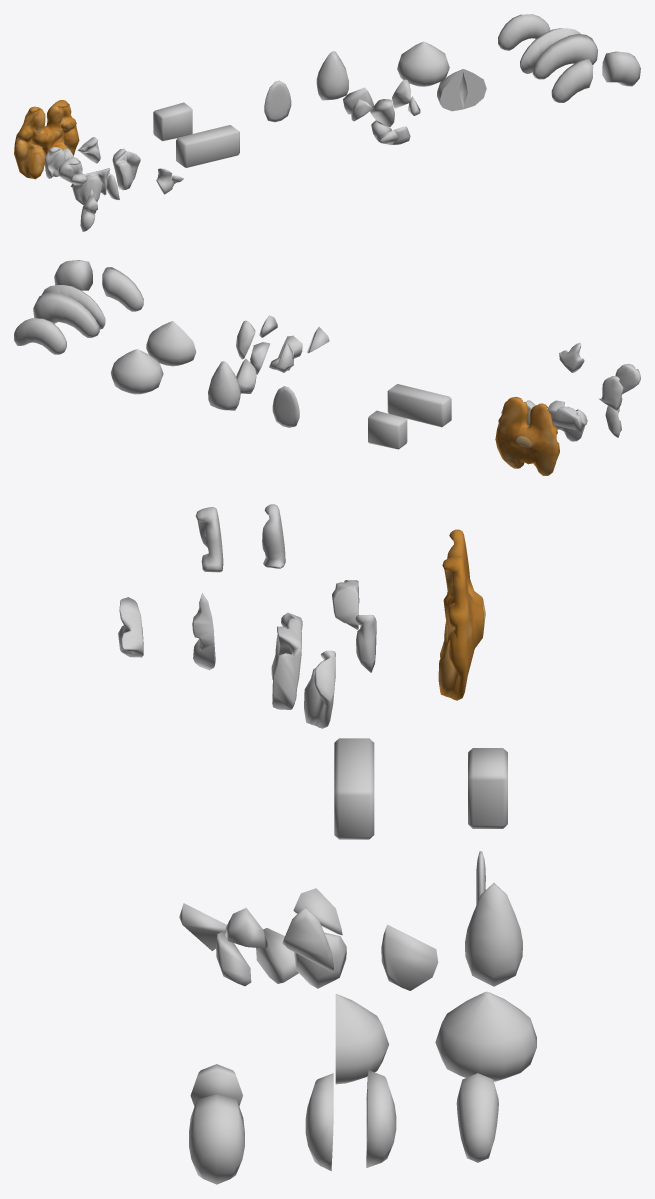
File: Restaurant_Ice cream_Six kinds of nuts.FBX
3 views of the same model, one above another, from view 1: azimuth 30°, elevation 25°; view 2: azimuth 150°, elevation 25°; view 3: azimuth 270°, elevation 25° (orthographic). The views are drawn at different scales.
Parts seen in each view (by area): view 1: GuoRen12, Restaurant_Ice cream_Nuts (1), GuoRen01, GuoRen08, GuoRen05, GuoRen09, Restaurant_Ice cream_Nuts (5), GuoRen04, Restaurant_Ice cream_Nuts (2), Restaurant_Ice cream_Nuts (6), Restaurant_Ice cream_Nuts (4), Restaurant_Ice cream_Nuts (3) (+1 smaller); view 2: Restaurant_Ice cream_Nuts (1), GuoRen12, GuoRen01, GuoRen09, GuoRen08, GuoRen05, Restaurant_Ice cream_Nuts (5), GuoRen04, Restaurant_Ice cream_Nuts (6), Restaurant_Ice cream_Nuts (2), Restaurant_Ice cream_Nuts (4), Restaurant_Ice cream_Nuts (3) (+1 smaller); view 3: GuoRen12, GuoRen09, Restaurant_Ice cream_Nuts (5), GuoRen08, Restaurant_Ice cream_Nuts (1), GuoRen01, Restaurant_Ice cream_Nuts (4), GuoRen05, GuoRen04, Restaurant_Ice cream_Nuts (2), Restaurant_Ice cream_Nuts (6), GuoRen10.
Boxes of the visible parts, x1,y1,x2,y2 form: GuoRen12: [44, 137, 183, 231]; Restaurant_Ice cream_Nuts (1): [14, 100, 79, 179]; GuoRen01: [520, 28, 597, 79]; GuoRen08: [551, 51, 640, 102]; GuoRen05: [176, 125, 239, 167]; GuoRen09: [351, 79, 420, 145]; Restaurant_Ice cream_Nuts (5): [397, 41, 449, 86]; GuoRen04: [437, 69, 486, 111]; Restaurant_Ice cream_Nuts (2): [153, 102, 192, 141]; Restaurant_Ice cream_Nuts (6): [498, 14, 550, 50]; Restaurant_Ice cream_Nuts (4): [316, 51, 348, 100]; Restaurant_Ice cream_Nuts (3): [264, 80, 291, 122]; Restaurant_Ice cream_Nuts (1): [495, 397, 559, 475]; GuoRen12: [501, 342, 640, 441]; GuoRen01: [33, 285, 105, 337]; GuoRen09: [236, 315, 329, 374]; GuoRen08: [54, 260, 143, 311]; GuoRen05: [387, 384, 451, 427]; Restaurant_Ice cream_Nuts (5): [110, 349, 163, 394]; GuoRen04: [146, 321, 196, 366]; Restaurant_Ice cream_Nuts (6): [14, 318, 66, 354]; Restaurant_Ice cream_Nuts (2): [368, 410, 407, 449]; Restaurant_Ice cream_Nuts (4): [208, 361, 240, 410]; Restaurant_Ice cream_Nuts (3): [272, 386, 299, 427]; GuoRen12: [118, 504, 376, 728]; GuoRen09: [179, 888, 346, 988]; Restaurant_Ice cream_Nuts (5): [435, 991, 536, 1081]; GuoRen08: [189, 1064, 244, 1184]; Restaurant_Ice cream_Nuts (1): [438, 529, 485, 700]; GuoRen01: [305, 1070, 396, 1170]; Restaurant_Ice cream_Nuts (4): [465, 883, 522, 986]; GuoRen05: [334, 738, 374, 839]; GuoRen04: [335, 994, 389, 1084]; Restaurant_Ice cream_Nuts (2): [468, 748, 507, 828]; Restaurant_Ice cream_Nuts (6): [456, 1073, 498, 1162]; GuoRen10: [381, 924, 438, 990].
Bounding box in the file's own units: 7.43 × 0.9698 × 2.32.
